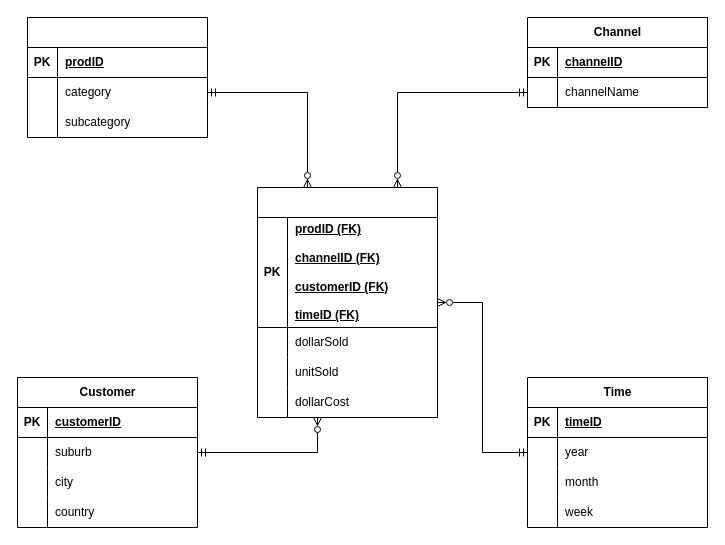
This 725x545 diagram has some shape labels left out. Each missing label, with the box of its shape:
Product: (26, 16, 208, 138)
Sales: (256, 186, 438, 418)
